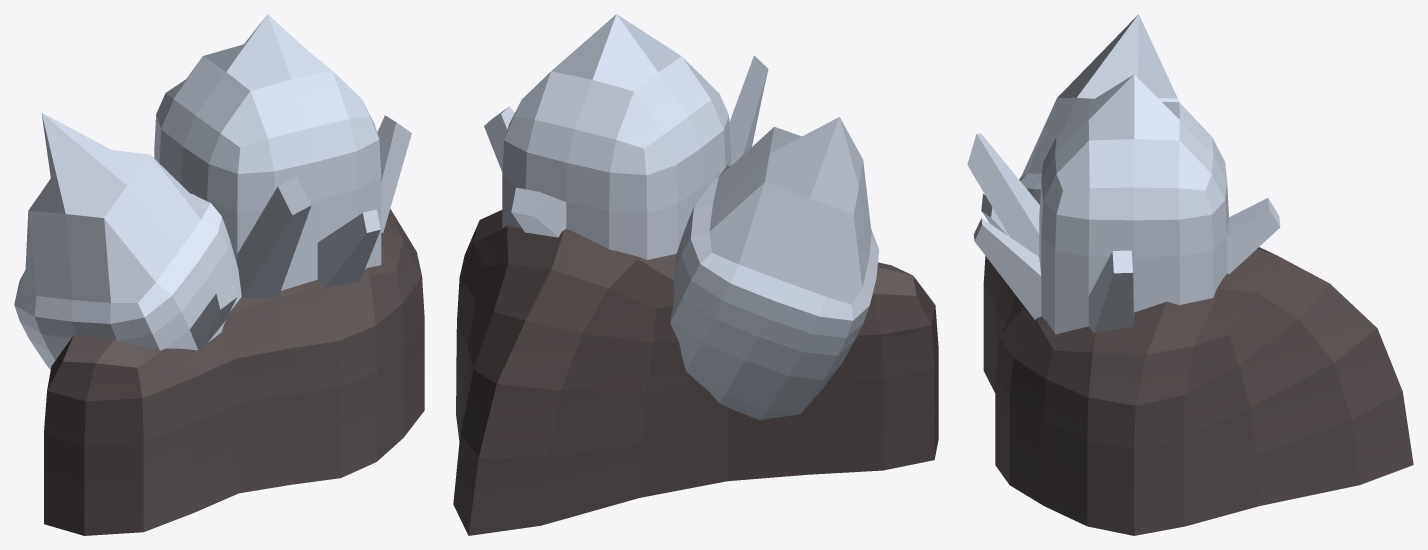
File: Wardspar_Var1.glb
3 views of the same model, side by side, from view 1: azimuth 30°, elevation 25°; view 2: azimuth 150°, elevation 25°; view 3: azimuth 270°, elevation 25° (orthographic). The views are drawn at different scales.
Visible parts, largest first — view 1: Moonchalk, Rock; view 2: Rock, Moonchalk; view 3: Rock, Moonchalk.
Part boxes in pixels (x1,y1,x2,y2): Moonchalk: (14, 14, 411, 369); Rock: (44, 209, 424, 535); Rock: (453, 210, 938, 535); Moonchalk: (484, 14, 879, 420); Rock: (983, 247, 1413, 535); Moonchalk: (967, 14, 1280, 334).
Size of the model in its own units: 4.89 by 4.54 by 4.71.
1 material, 1 textured.
